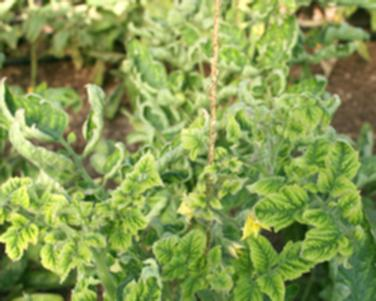Tomato leaf yellow virus: (319, 141, 376, 200), (253, 181, 317, 232), (113, 155, 174, 204), (41, 217, 81, 285), (293, 223, 345, 267), (0, 212, 43, 262), (0, 174, 38, 226), (153, 237, 197, 281), (250, 225, 280, 283), (176, 223, 206, 270), (128, 274, 164, 301), (236, 268, 265, 301), (121, 202, 146, 236), (259, 273, 288, 301)
